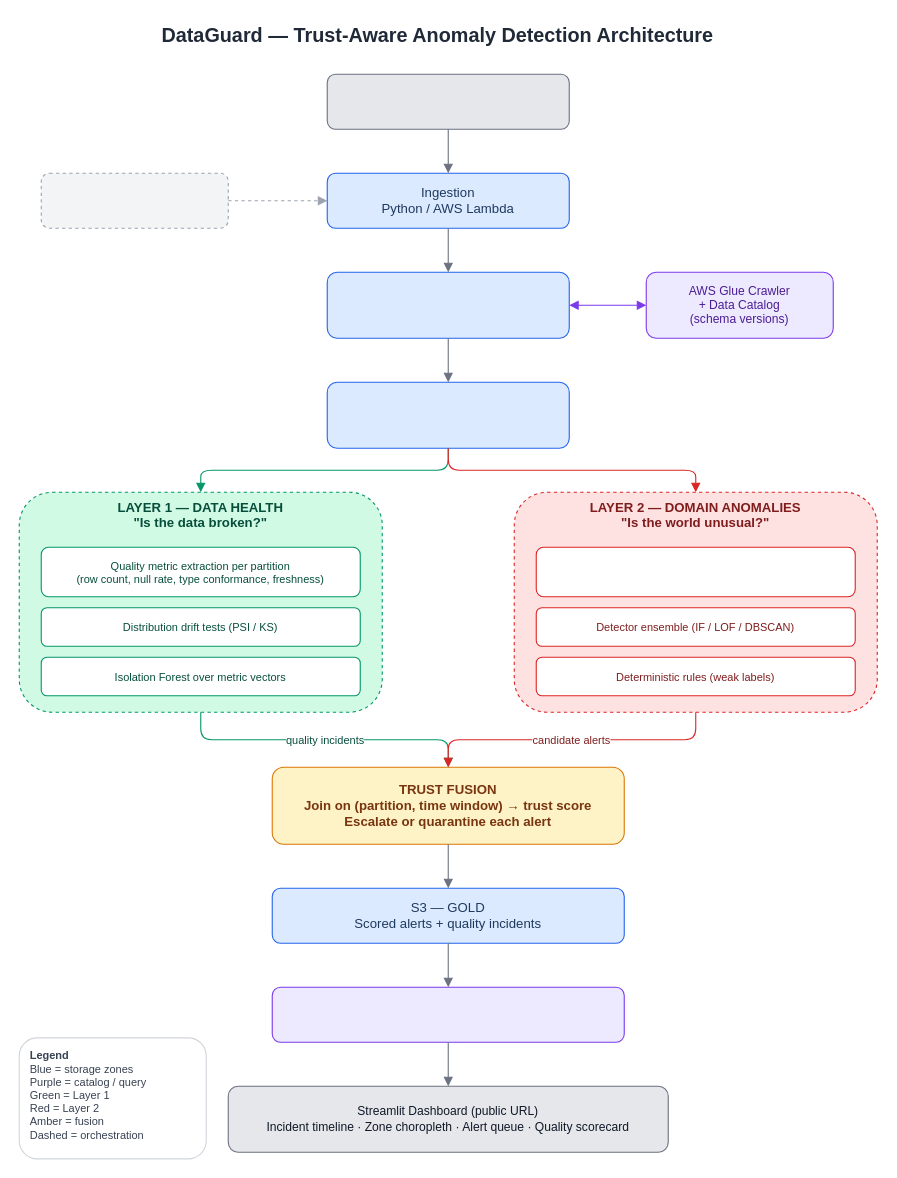
The diagram is 897 pixels wide and 1178 high, and some of its shapes have lost their labels. Here are the shapes that lost their labels. From the top down, the box of each, then its label:
(326, 73, 569, 129): NYC TLC Open Data Monthly Parquet (2019–2025)
(40, 172, 228, 228): AWS Step Functions Monthly orchestration
(326, 271, 569, 338): S3 — BRONZE Raw, immutable service / year / month
(326, 381, 569, 448): S3 — SILVER Type-conformed, unified schema
(535, 546, 855, 597): Feature engineering (trip level + zone-hour aggregates)
(271, 986, 624, 1042): Amazon Athena SQL serving layer
